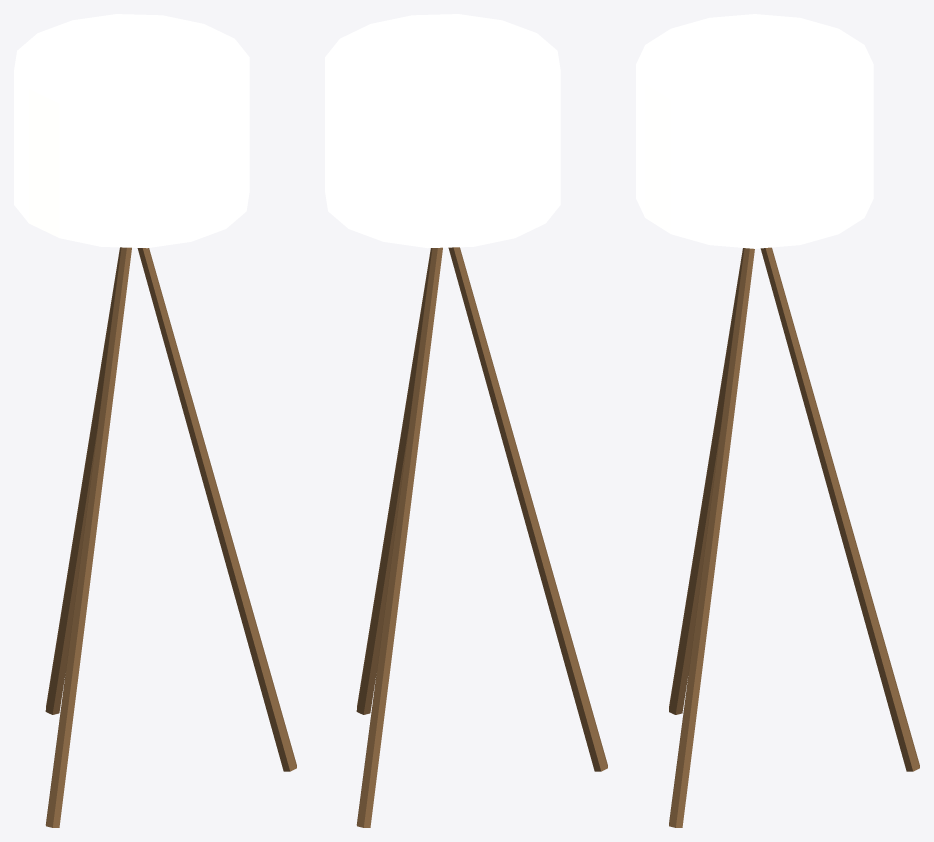
Rendered from lamp_tripod.glb.
3 views of the same model, side by side, from view 1: azimuth 30°, elevation 25°; view 2: azimuth 150°, elevation 25°; view 3: azimuth 270°, elevation 25° (orthographic).
Visible parts, largest first — view 1: Lamp_tripod; view 2: Lamp_tripod; view 3: Lamp_tripod.
Boxes of the visible parts, x1,y1,x2,y2 form: Lamp_tripod: (14, 14, 296, 827); Lamp_tripod: (325, 14, 607, 827); Lamp_tripod: (636, 14, 919, 827).
Bounding box in the file's own units: 0.5855 × 1.57 × 0.5734.
